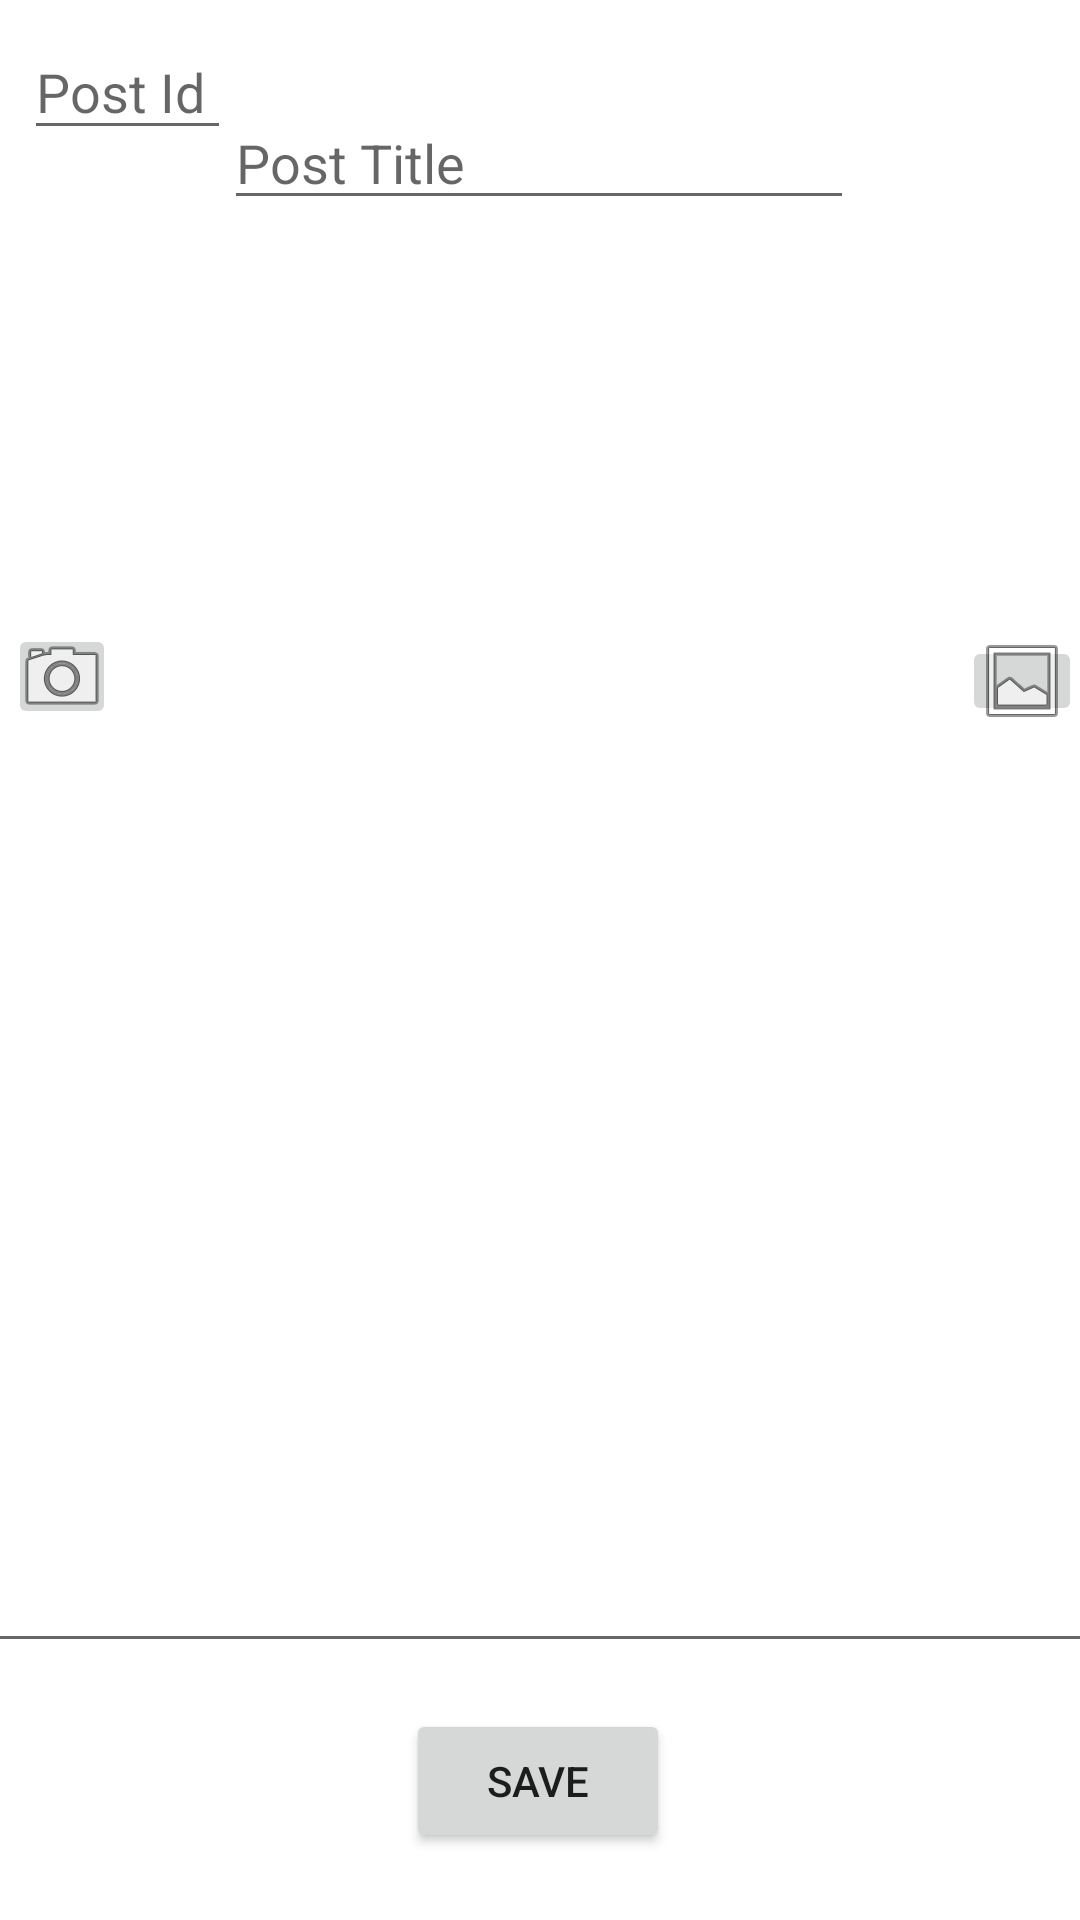

Named icons in this screenshot (1080×1920) and their centers, point (x, y):
camera: point (62, 676)
gallery: point (1022, 681)
